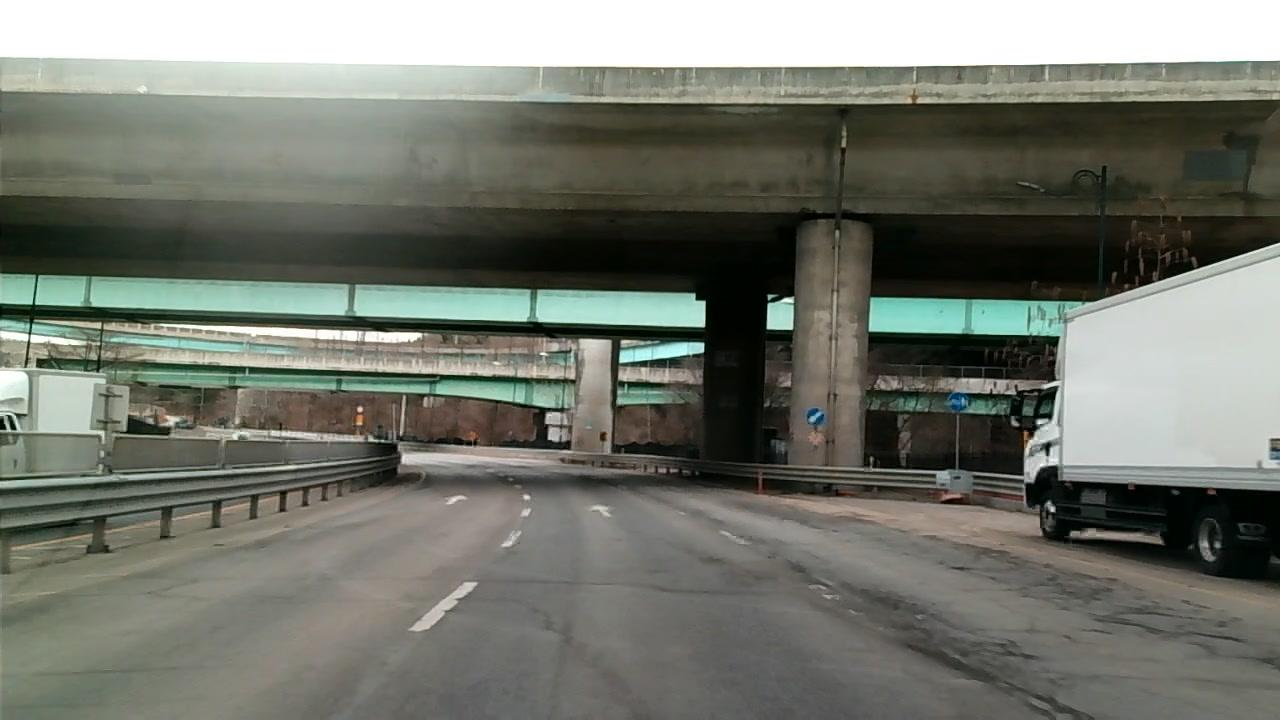erosion: (883, 596, 1080, 720), (1085, 576, 1225, 648), (779, 544, 883, 631), (940, 538, 1079, 594)
hcrack: (478, 576, 705, 594), (36, 665, 165, 675)
vcrack: (146, 574, 202, 598), (528, 602, 567, 635)
